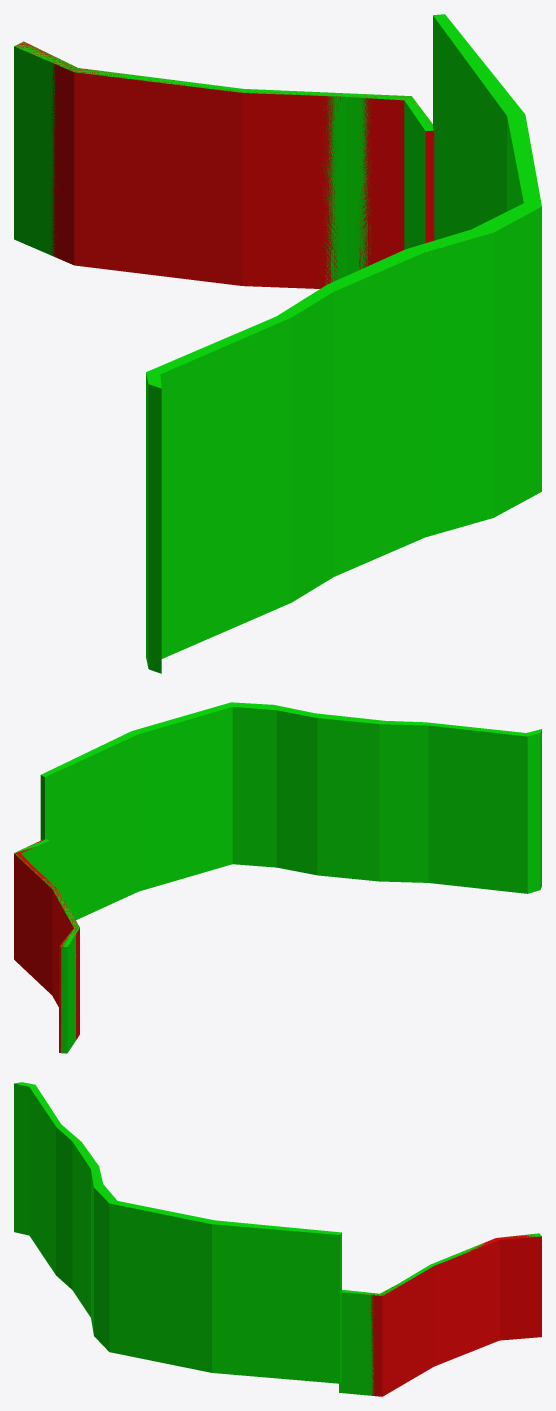
The model's file is InvisibleWall_017.fbx.
The picture shows the model from 3 angles, top to bottom: view 1: azimuth 30°, elevation 25°; view 2: azimuth 150°, elevation 25°; view 3: azimuth 270°, elevation 25°; orthographic projection. The views are drawn at different scales.
Visible parts, largest first — view 1: Designer117, InvisibleWall_017_Phys, Designer230; view 2: Designer117, InvisibleWall_017_Phys, Designer230; view 3: Designer117, InvisibleWall_017_Phys, Designer230.
Part boxes in pixels (box(x1,y1,x2,y2)): Designer117: box(146, 14, 541, 673); InvisibleWall_017_Phys: box(15, 41, 434, 288); Designer230: box(14, 42, 433, 284); Designer117: box(40, 702, 541, 919); InvisibleWall_017_Phys: box(14, 839, 79, 1052); Designer230: box(14, 839, 79, 1053); Designer117: box(14, 1082, 341, 1383); InvisibleWall_017_Phys: box(350, 1234, 541, 1396); Designer230: box(339, 1233, 541, 1395).
Bounding box in the file's own units: 4467 × 2151 × 6437.
